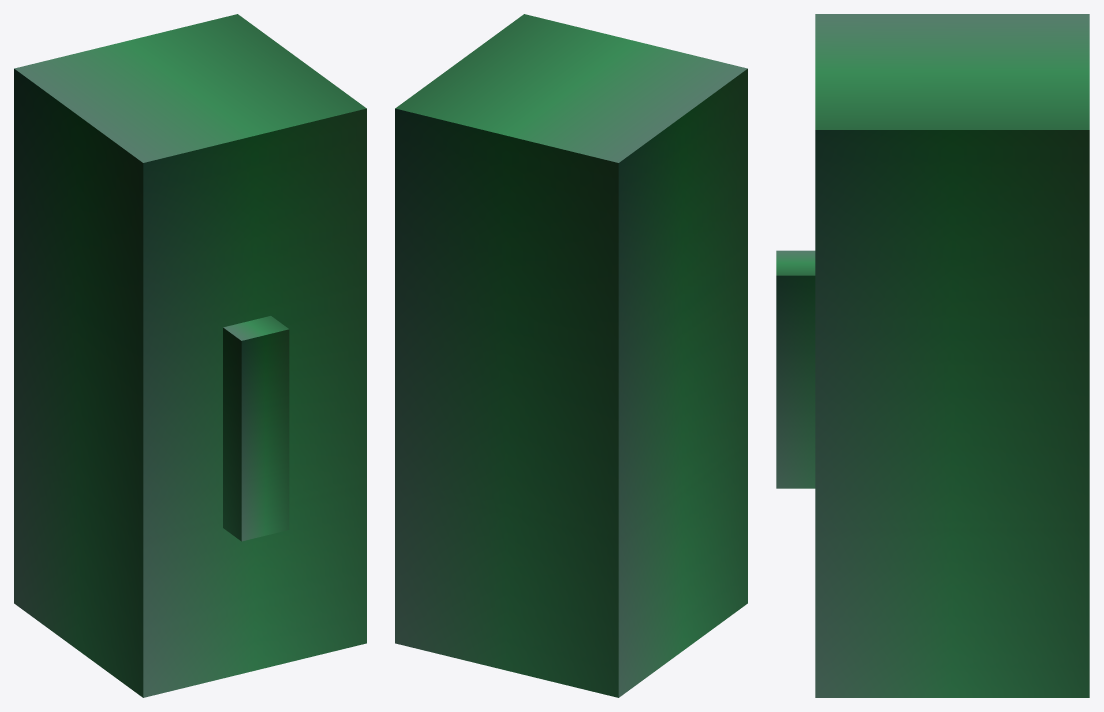
The model's file is BuildingSmallL.fbx.
The picture shows the model from 3 angles, left to right: view 1: azimuth 30°, elevation 25°; view 2: azimuth 150°, elevation 25°; view 3: azimuth 270°, elevation 25°; orthographic projection. The views are drawn at different scales.
Visible parts, largest first — view 1: cube, cube_1; view 2: cube; view 3: cube, cube_1.
Part boxes in pixels (x1,y1,x2,y2): cube: [14, 14, 366, 697]; cube_1: [223, 316, 289, 541]; cube: [395, 14, 747, 697]; cube: [815, 14, 1089, 697]; cube_1: [776, 250, 815, 488].
Bounding box in the file's own units: 87.5 × 200 × 100.
Materials: 1 (1 with a texture image).
